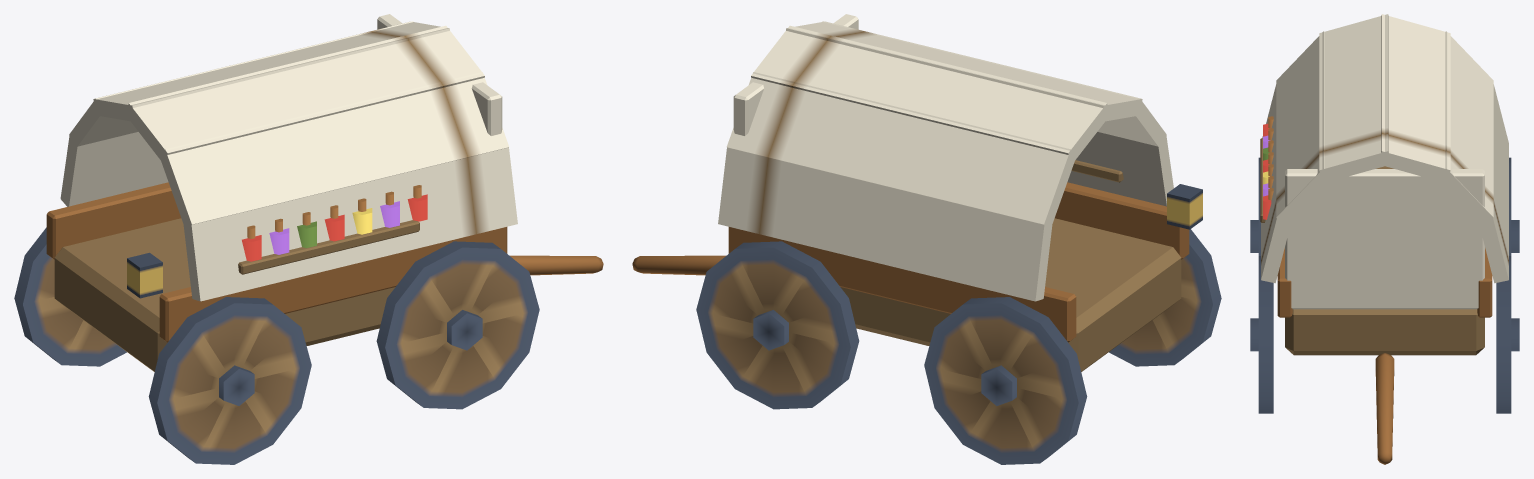
File: prop_wagon_92cf.glb
3 views of the same model, side by side, from view 1: azimuth 30°, elevation 25°; view 2: azimuth 150°, elevation 25°; view 3: azimuth 270°, elevation 25° (orthographic). The views are drawn at different scales.
Visible parts, largest first — view 1: prop_wagon_92cf; view 2: prop_wagon_92cf; view 3: prop_wagon_92cf.
Boxes of the visible parts, bbox=[...] form: prop_wagon_92cf: bbox=[14, 14, 603, 464]; prop_wagon_92cf: bbox=[632, 14, 1221, 464]; prop_wagon_92cf: bbox=[1250, 14, 1519, 464].
Size of the model in its own units: 2.81 by 1.64 by 1.43.
Materials: 3 (3 with a texture image).
